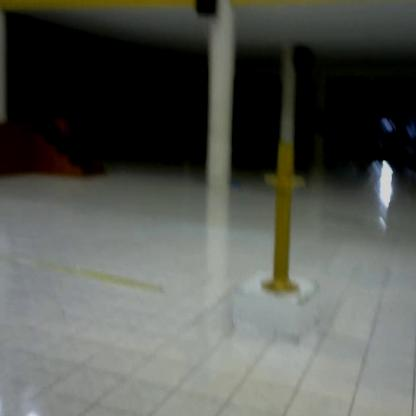pole: (255, 136, 312, 299)
